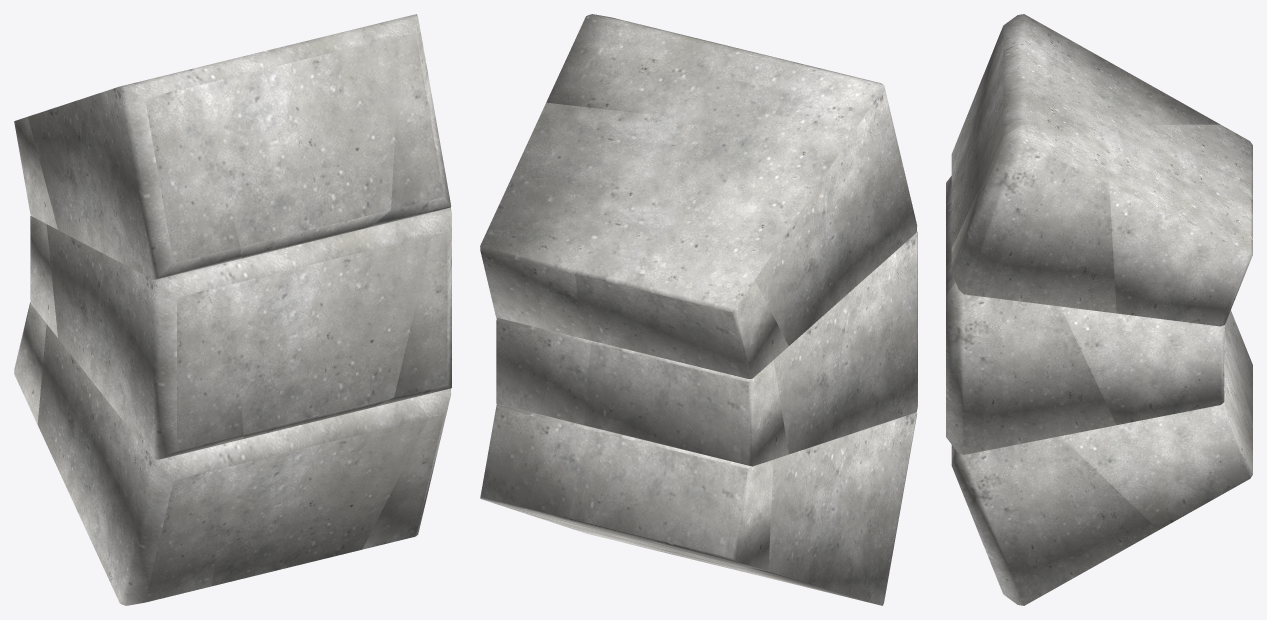
Rendered from SkillObject_Speaker.fbx.
The picture shows the model from 3 angles, left to right: view 1: azimuth 30°, elevation 25°; view 2: azimuth 150°, elevation 25°; view 3: azimuth 270°, elevation 25°; orthographic projection. The views are drawn at different scales.
Visible parts, largest first — view 1: SkillObject_Speaker_Fragments_006, SkillObject_Speaker_Fragments_001, SkillObject_Speaker_Fragments_007, SkillObject_Speaker_Fragments_002, SkillObject_Speaker_Fragments_012, SkillObject_Speaker_Fragments_011, SkillObject_Speaker_Fragments_010, SkillObject_Speaker_Fragments_005, SkillObject_Speaker_Fragments_015, SkillObject_Speaker_Fragments_013, SkillObject_Speaker_Fragments_003, SkillObject_Speaker_Fragments_008; view 2: SkillObject_Speaker_Fragments_007, SkillObject_Speaker_Fragments_009, SkillObject_Speaker_Fragments_008, SkillObject_Speaker_Fragments_012, SkillObject_Speaker_Fragments_013, SkillObject_Speaker_Fragments_002, SkillObject_Speaker_Fragments_003, SkillObject_Speaker_Fragments_006, SkillObject_Speaker_Fragments_014, SkillObject_Speaker_Fragments_004, SkillObject_Speaker_Fragments_010, SkillObject_Speaker_Fragments_015; view 3: SkillObject_Speaker_Fragments_010, SkillObject_Speaker_Fragments_009, SkillObject_Speaker_Fragments_005, SkillObject_Speaker_Fragments_015, SkillObject_Speaker_Fragments_014, SkillObject_Speaker_Fragments_004, SkillObject_Speaker_Fragments_006, SkillObject_Speaker_Fragments_007, SkillObject_Speaker_Fragments_008, SkillObject_Speaker_Fragments_013, SkillObject_Speaker_Fragments_001.
Part boxes in pixels (left/top/right/bottom): SkillObject_Speaker_Fragments_006: left=193, top=24, right=400, bottom=258; SkillObject_Speaker_Fragments_001: left=227, top=218, right=432, bottom=438; SkillObject_Speaker_Fragments_007: left=28, top=68, right=241, bottom=279; SkillObject_Speaker_Fragments_002: left=46, top=224, right=243, bottom=459; SkillObject_Speaker_Fragments_012: left=37, top=324, right=227, bottom=605; SkillObject_Speaker_Fragments_011: left=211, top=398, right=428, bottom=586; SkillObject_Speaker_Fragments_010: left=364, top=14, right=450, bottom=228; SkillObject_Speaker_Fragments_005: left=375, top=208, right=451, bottom=406; SkillObject_Speaker_Fragments_015: left=362, top=388, right=451, bottom=549; SkillObject_Speaker_Fragments_013: left=14, top=302, right=46, bottom=424; SkillObject_Speaker_Fragments_003: left=30, top=216, right=57, bottom=337; SkillObject_Speaker_Fragments_008: left=14, top=116, right=57, bottom=229; SkillObject_Speaker_Fragments_007: left=698, top=68, right=917, bottom=345; SkillObject_Speaker_Fragments_009: left=480, top=102, right=697, bottom=338; SkillObject_Speaker_Fragments_008: left=575, top=166, right=788, bottom=378; SkillObject_Speaker_Fragments_012: left=682, top=412, right=916, bottom=605; SkillObject_Speaker_Fragments_013: left=568, top=428, right=773, bottom=570; SkillObject_Speaker_Fragments_002: left=773, top=231, right=917, bottom=454; SkillObject_Speaker_Fragments_003: left=584, top=341, right=788, bottom=466; SkillObject_Speaker_Fragments_006: left=626, top=21, right=824, bottom=166; SkillObject_Speaker_Fragments_014: left=480, top=404, right=672, bottom=549; SkillObject_Speaker_Fragments_004: left=496, top=318, right=592, bottom=425; SkillObject_Speaker_Fragments_010: left=546, top=14, right=673, bottom=116; SkillObject_Speaker_Fragments_015: left=526, top=513, right=714, bottom=561; SkillObject_Speaker_Fragments_010: left=951, top=125, right=1116, bottom=313; SkillObject_Speaker_Fragments_009: left=1095, top=125, right=1252, bottom=326; SkillObject_Speaker_Fragments_005: left=946, top=282, right=1116, bottom=454; SkillObject_Speaker_Fragments_015: left=951, top=436, right=1158, bottom=605; SkillObject_Speaker_Fragments_014: left=1060, top=364, right=1252, bottom=529; SkillObject_Speaker_Fragments_004: left=1060, top=306, right=1224, bottom=424; SkillObject_Speaker_Fragments_006: left=951, top=45, right=1132, bottom=247; SkillObject_Speaker_Fragments_007: left=951, top=14, right=1220, bottom=182; SkillObject_Speaker_Fragments_008: left=1133, top=124, right=1252, bottom=213; SkillObject_Speaker_Fragments_013: left=1224, top=310, right=1252, bottom=435; SkillObject_Speaker_Fragments_001: left=946, top=202, right=955, bottom=293.
Bounding box in the file's own units: 119 × 198 × 119.
